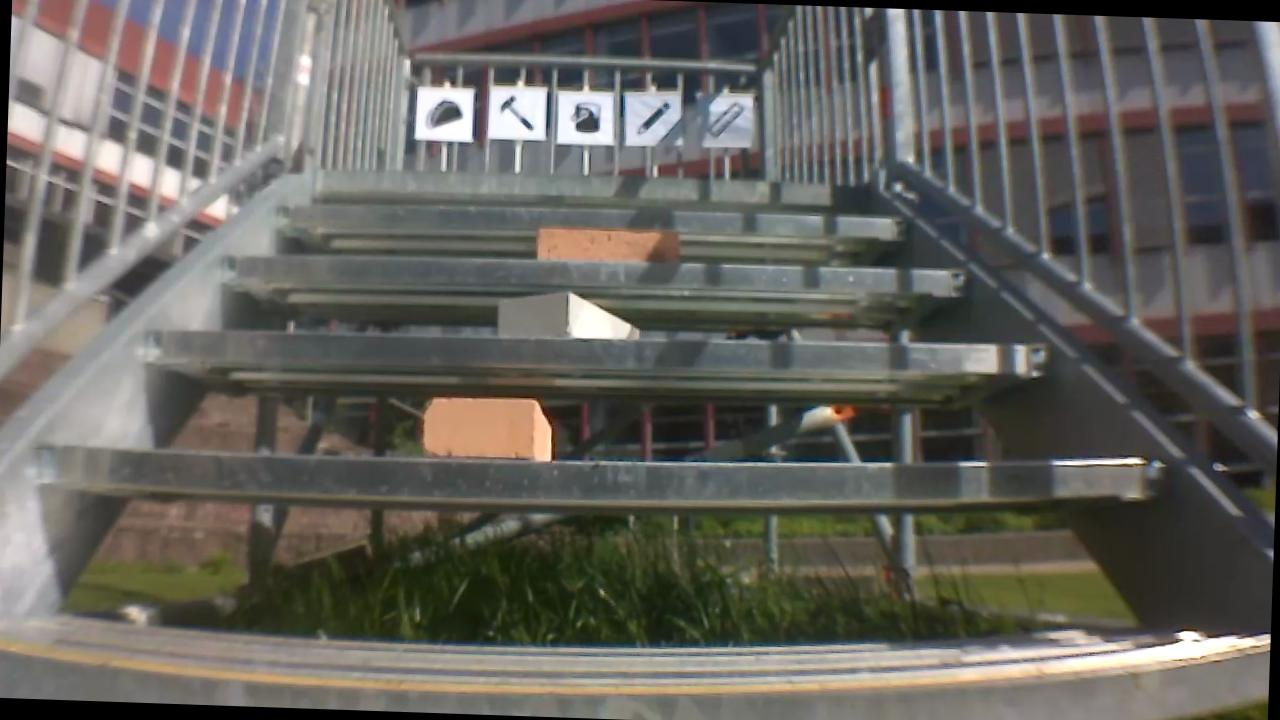brick: (414, 395, 553, 462), (497, 290, 638, 337), (526, 225, 681, 264)
bucket: (569, 100, 606, 136)
edge: (19, 421, 1177, 531), (132, 308, 1050, 398), (208, 242, 969, 314), (254, 192, 911, 252), (290, 163, 872, 210)
hammer: (493, 89, 545, 132)
pencil: (636, 99, 670, 135)
ruler: (699, 100, 745, 138)
taco: (422, 92, 466, 129)
